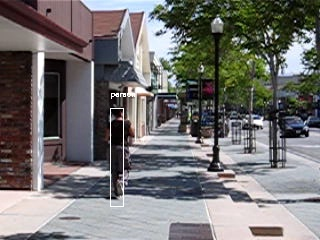person: (101, 104, 132, 198), (100, 104, 131, 198), (102, 104, 133, 198), (101, 103, 132, 197), (101, 105, 132, 199)
target_negative: (214, 120, 271, 222), (43, 164, 265, 190), (87, 188, 237, 216), (204, 161, 259, 183), (15, 162, 189, 167), (58, 94, 76, 99)
